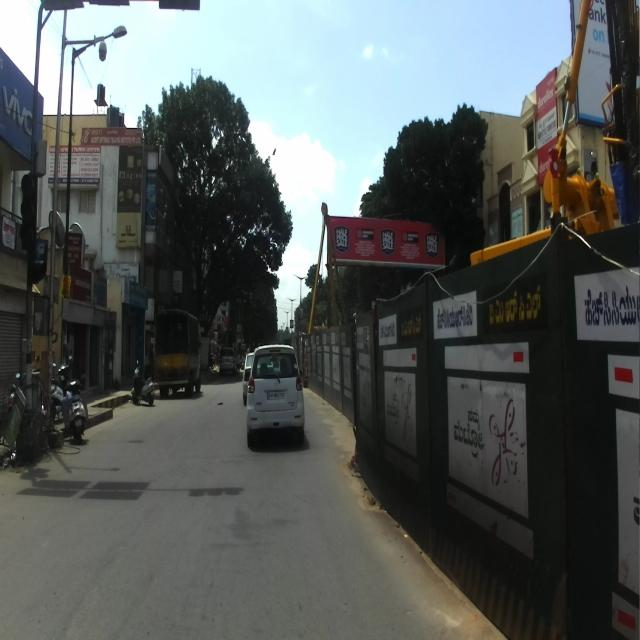Car_Maruti-Suzuki: (244, 343, 304, 448)
scooter: (7, 352, 42, 420), (60, 371, 88, 447)
truck: (154, 308, 202, 397)
